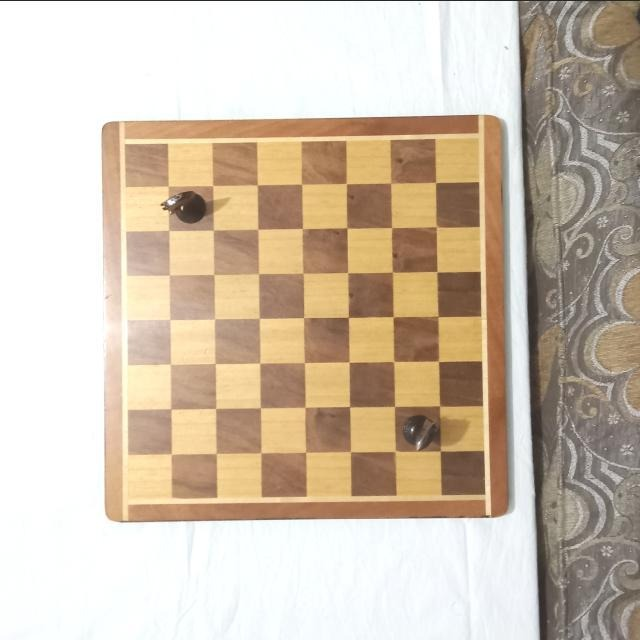black-knight: (160, 189, 208, 222), (400, 413, 440, 451)
